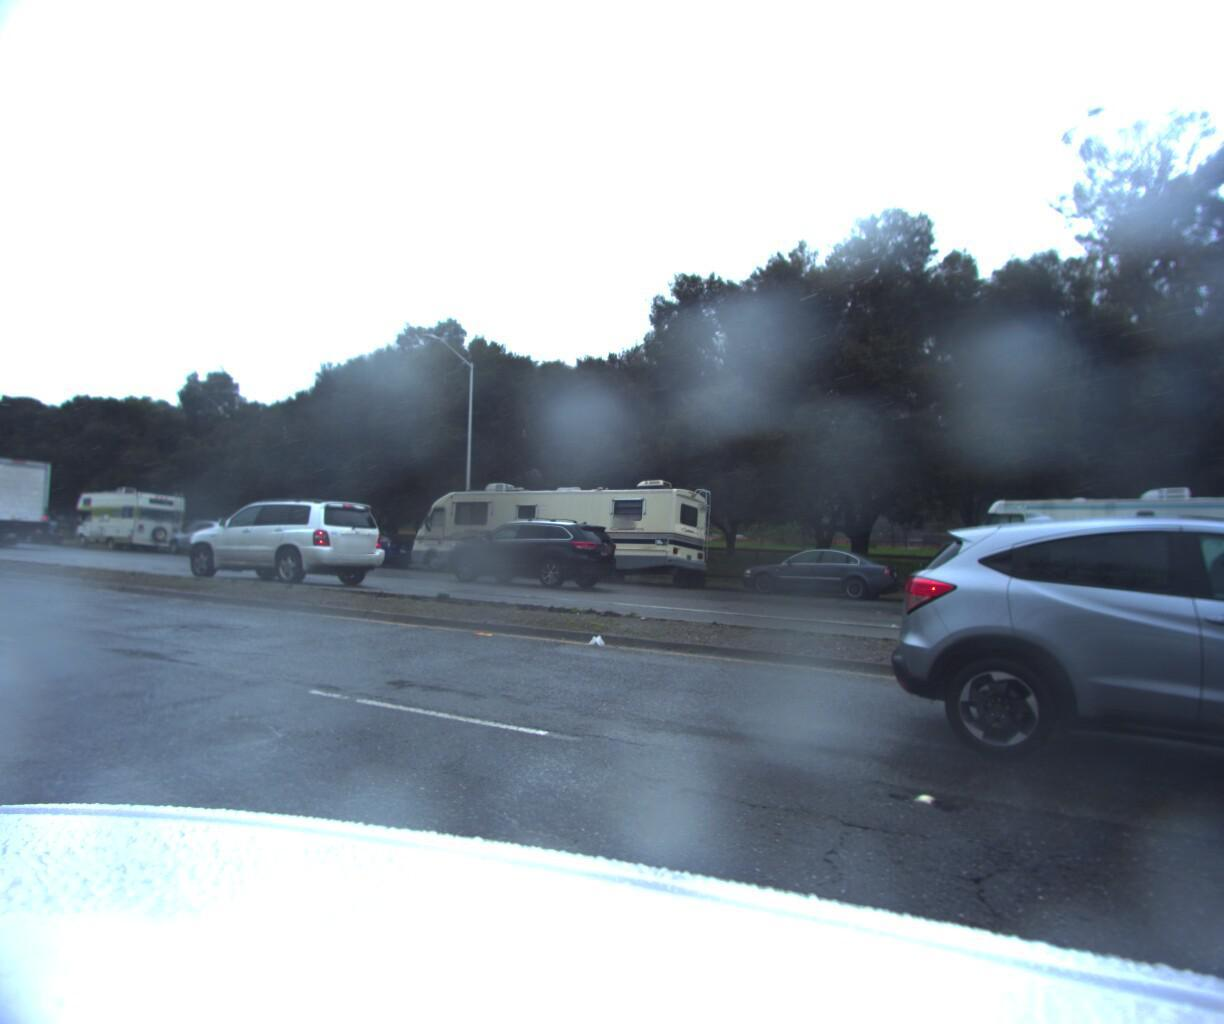car: (848, 487, 1224, 867), (176, 498, 393, 592), (443, 515, 628, 589), (726, 544, 908, 606), (306, 530, 420, 573), (160, 521, 252, 561), (0, 521, 66, 550)
other_vehicle: (945, 473, 1224, 635), (399, 476, 718, 592), (63, 490, 187, 556)
truck: (0, 457, 65, 556)
